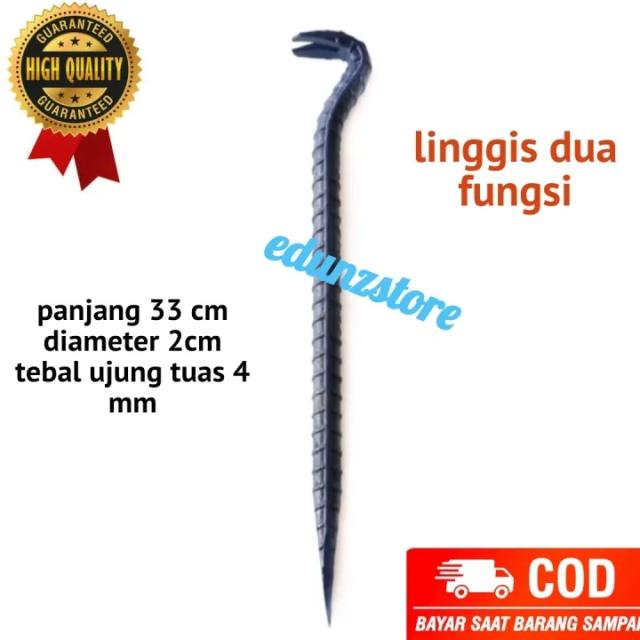Linggis: (291, 29, 373, 623)
